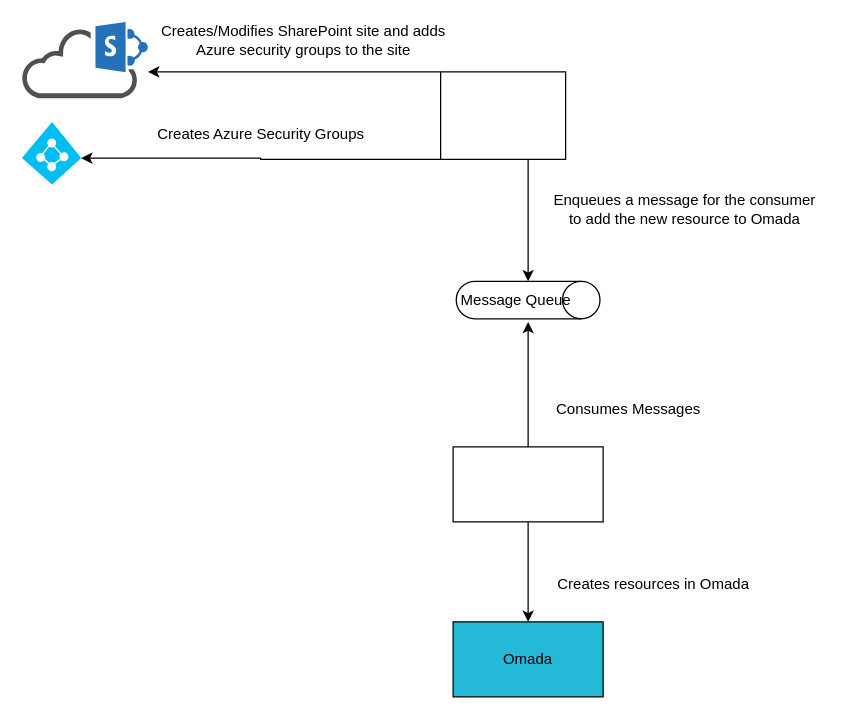
Image size: 843x719. Some labels were removed from this diagram. The shapes that lost their labels are listed below. From the top down, each one's centre as x and y in pixels, then its label:
At pixel 502 115: "User interface and web app".
At pixel 527 484: "Consumer".
